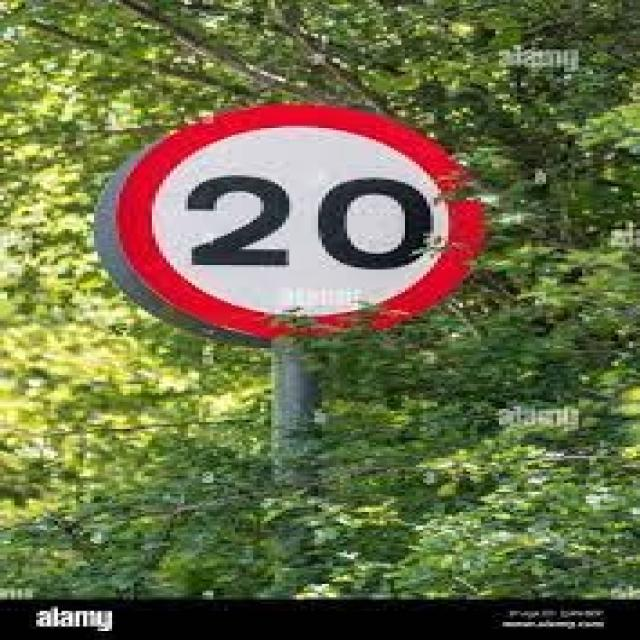speed_limit_20: (107, 90, 478, 347)
